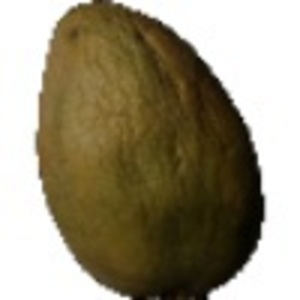mamão: (23, 2, 274, 296)
